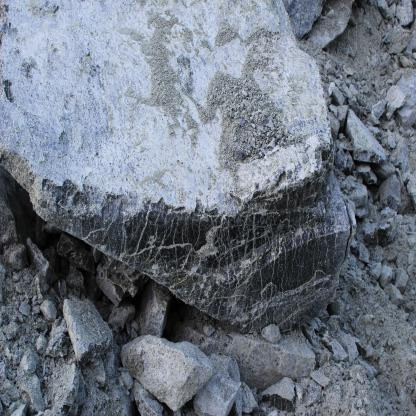stone: (46, 134, 354, 340), (121, 336, 211, 407), (63, 298, 117, 363), (196, 349, 243, 416), (347, 109, 385, 164)
